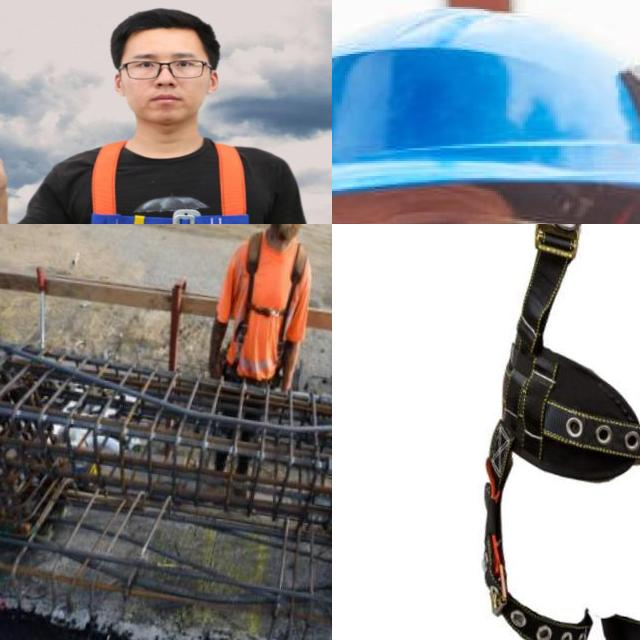Harness: (485, 224, 640, 640), (47, 132, 267, 224), (236, 232, 308, 376)
head_helmet: (332, 0, 640, 224)
